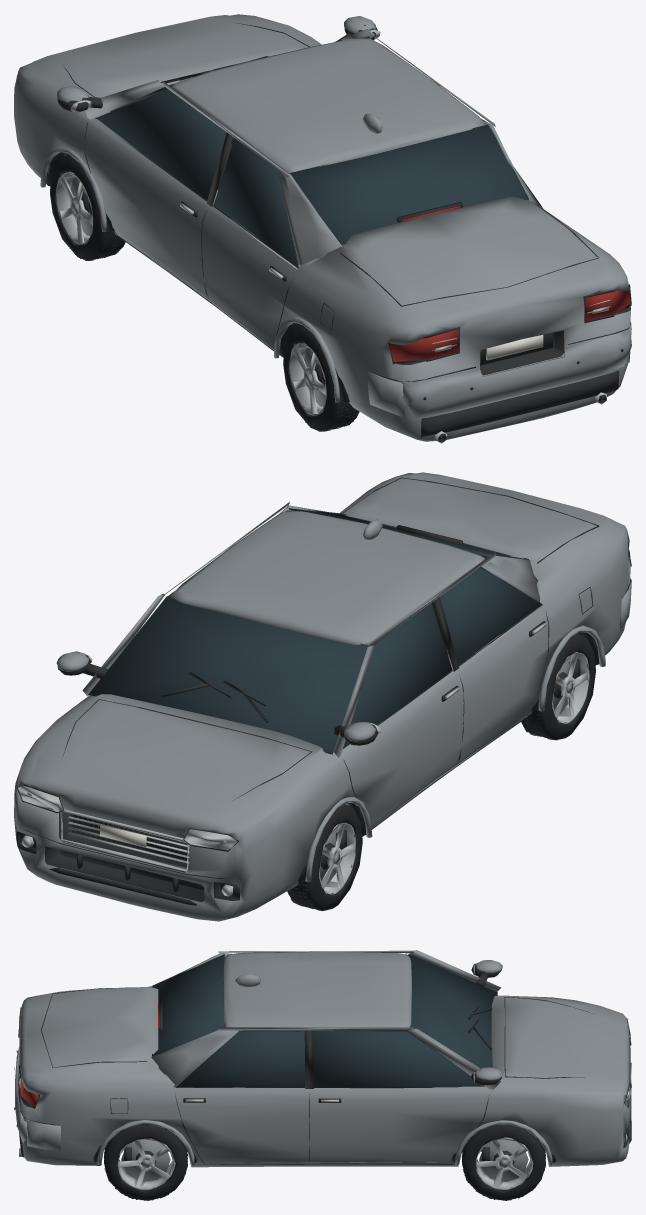
The model's file is NeighborhoodSedan.fbx.
The picture shows the model from 3 angles, top to bottom: view 1: azimuth 30°, elevation 25°; view 2: azimuth 150°, elevation 25°; view 3: azimuth 270°, elevation 25°; orthographic projection. The views are drawn at different scales.
Visible parts, largest first — view 1: NeighborhoodSedan; view 2: NeighborhoodSedan; view 3: NeighborhoodSedan.
Boxes of the visible parts, bbox=[...] form: NeighborhoodSedan: bbox=[14, 14, 631, 443]; NeighborhoodSedan: bbox=[14, 472, 631, 921]; NeighborhoodSedan: bbox=[14, 950, 631, 1200].
Size of the model in its own units: 218 by 155 by 484.
